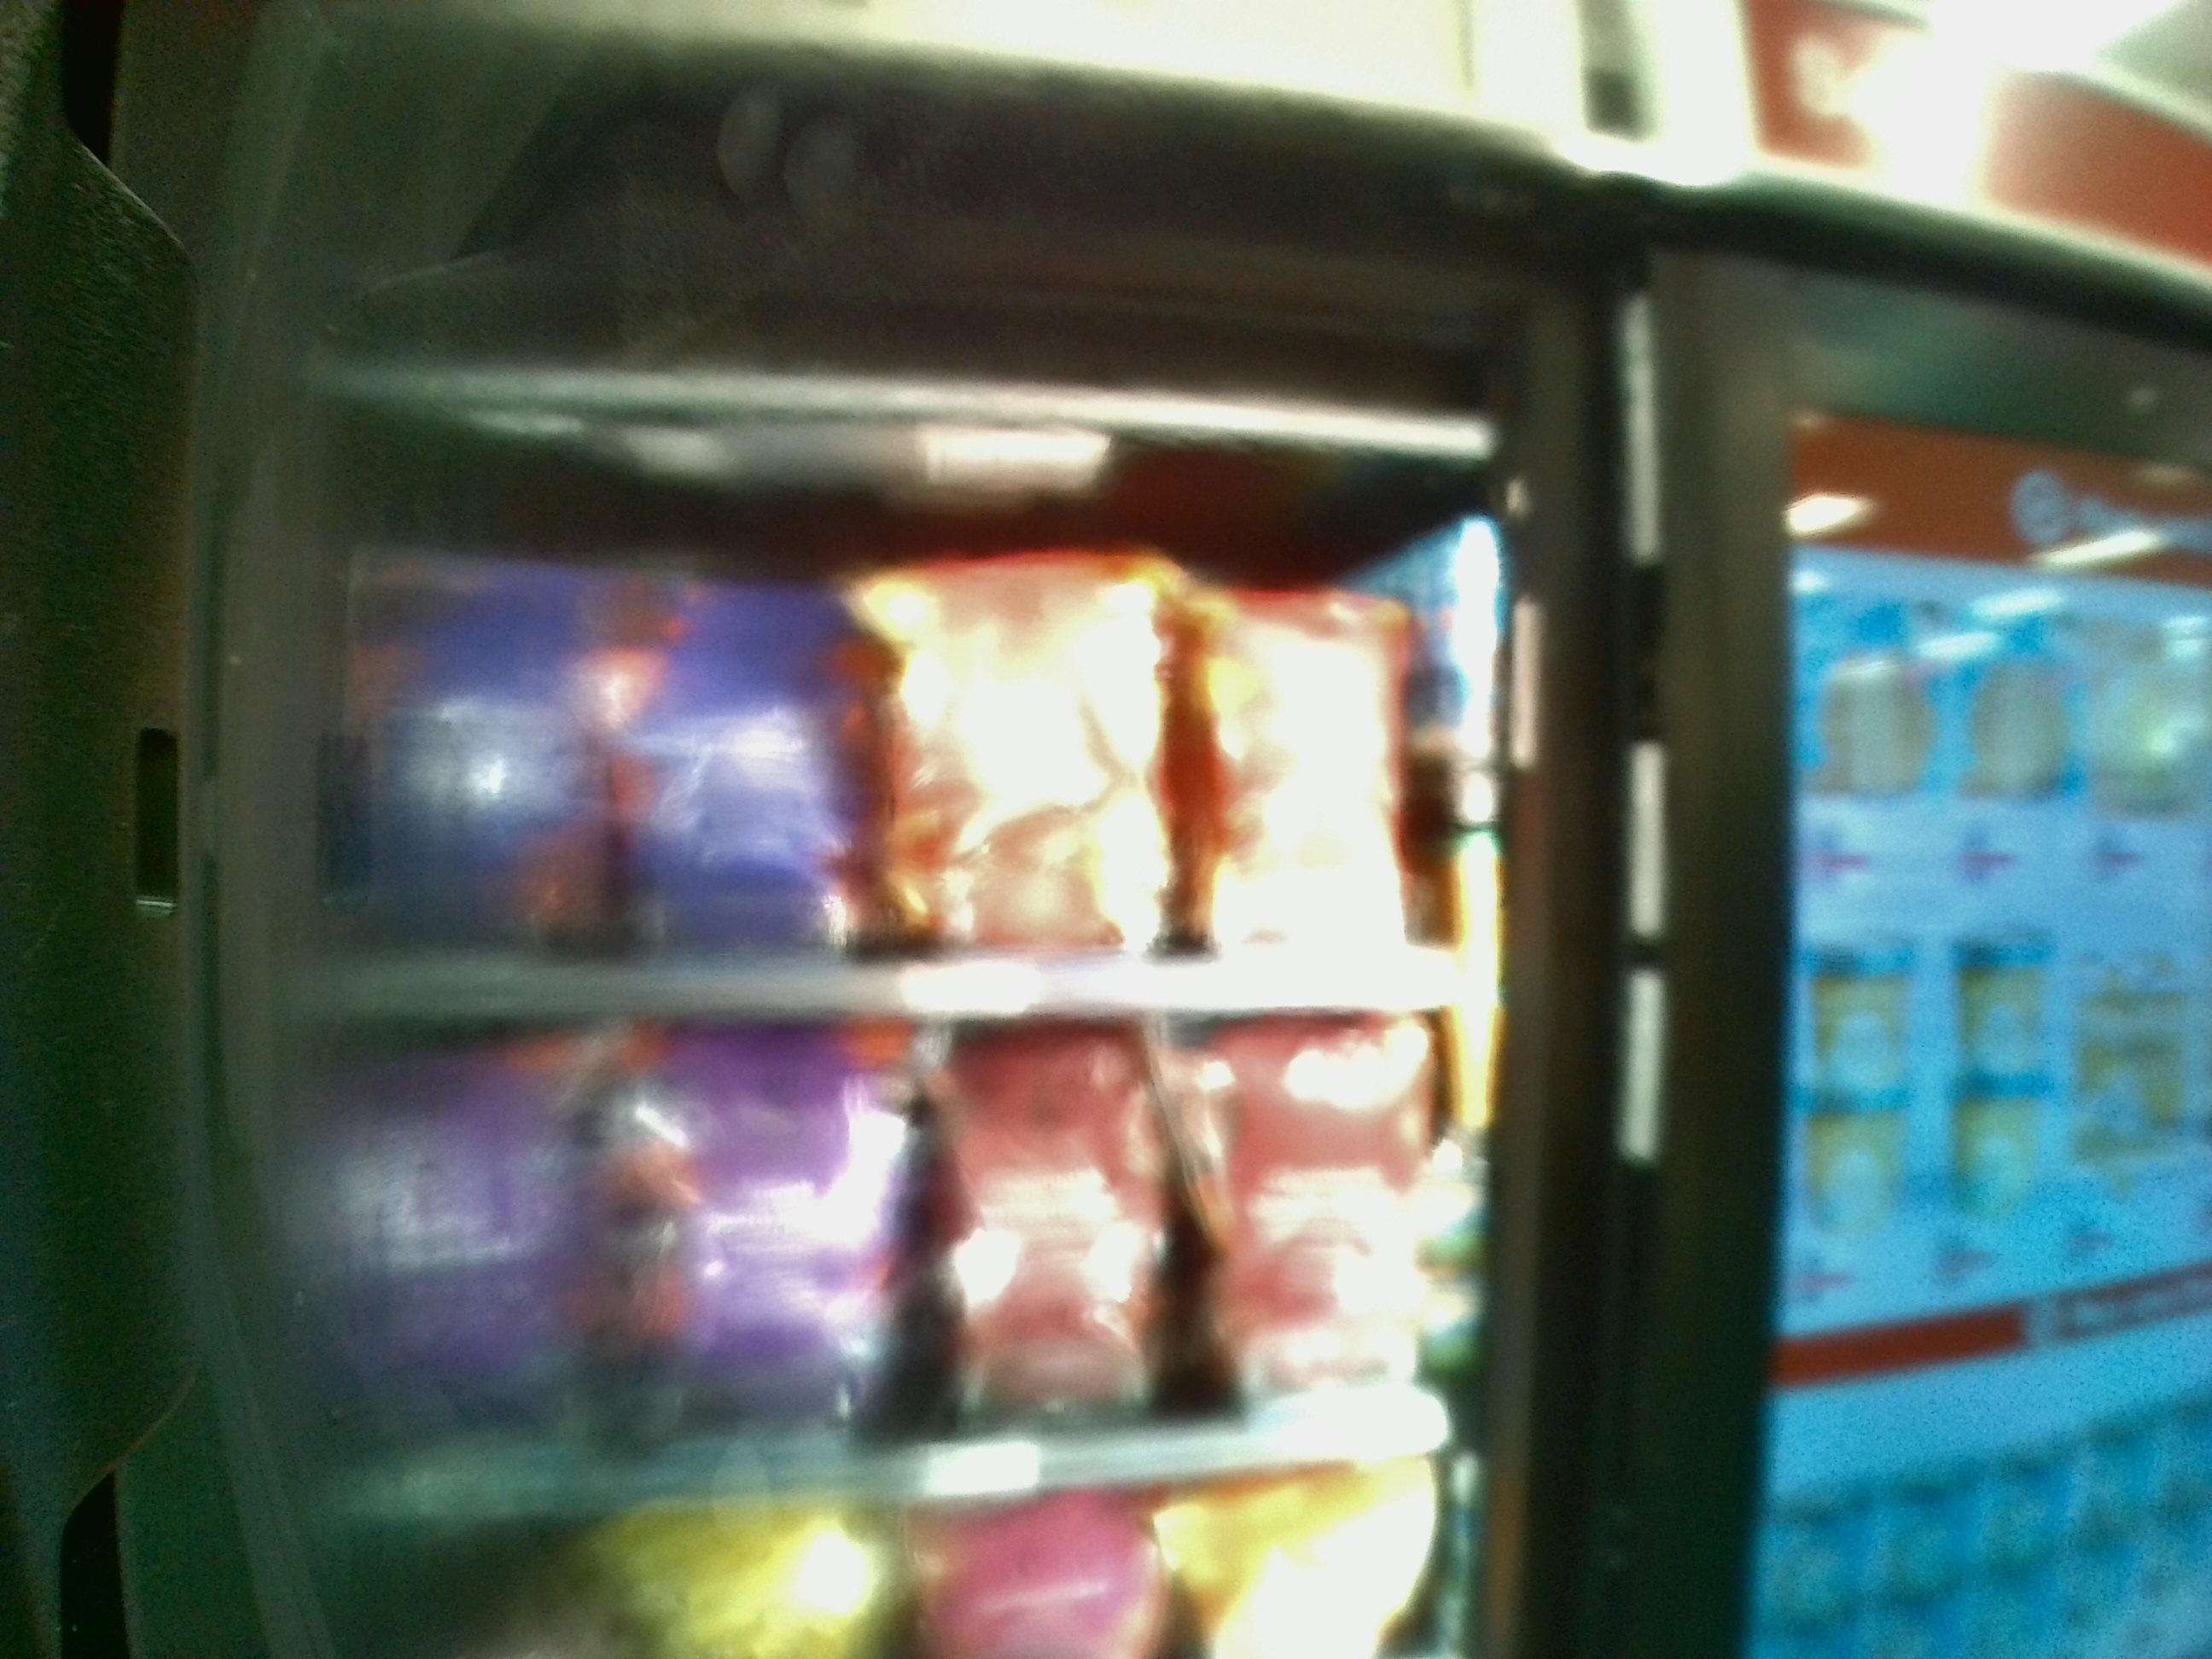shelf: (289, 401, 1456, 1016), (307, 1039, 1472, 1509)
